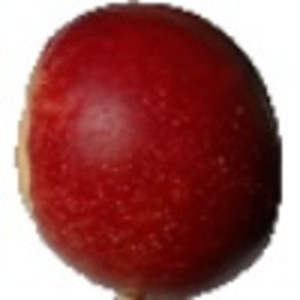nectarina: (12, 1, 282, 300)
